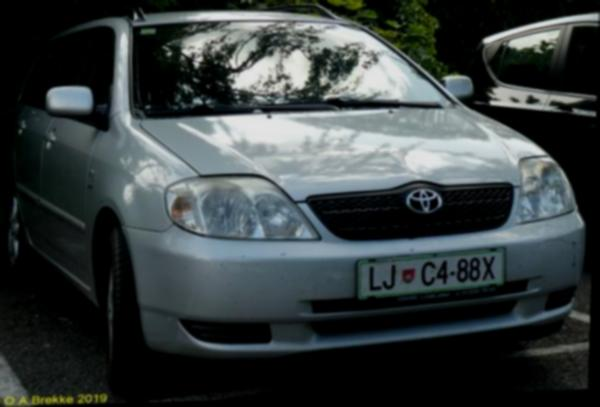License_Plate: (351, 245, 511, 310)
